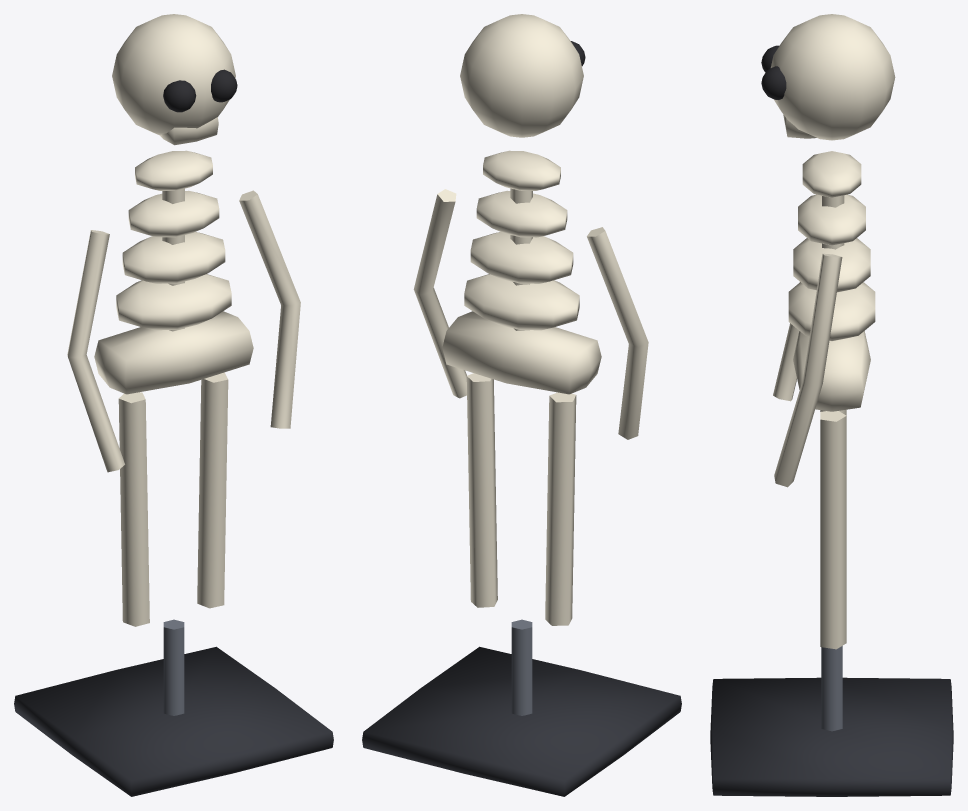
File: skeleton_model.glb
3 views of the same model, side by side, from view 1: azimuth 30°, elevation 25°; view 2: azimuth 150°, elevation 25°; view 3: azimuth 270°, elevation 25° (orthographic). The views are drawn at different scales.
Visible parts, largest first — view 1: root; view 2: root; view 3: root.
Boxes of the visible parts, box(x1,y1,x2,y2) form: root: box(14, 14, 333, 796); root: box(362, 14, 681, 796); root: box(710, 14, 953, 796).
Size of the model in its own units: 0.5613 by 1.65 by 0.5.
